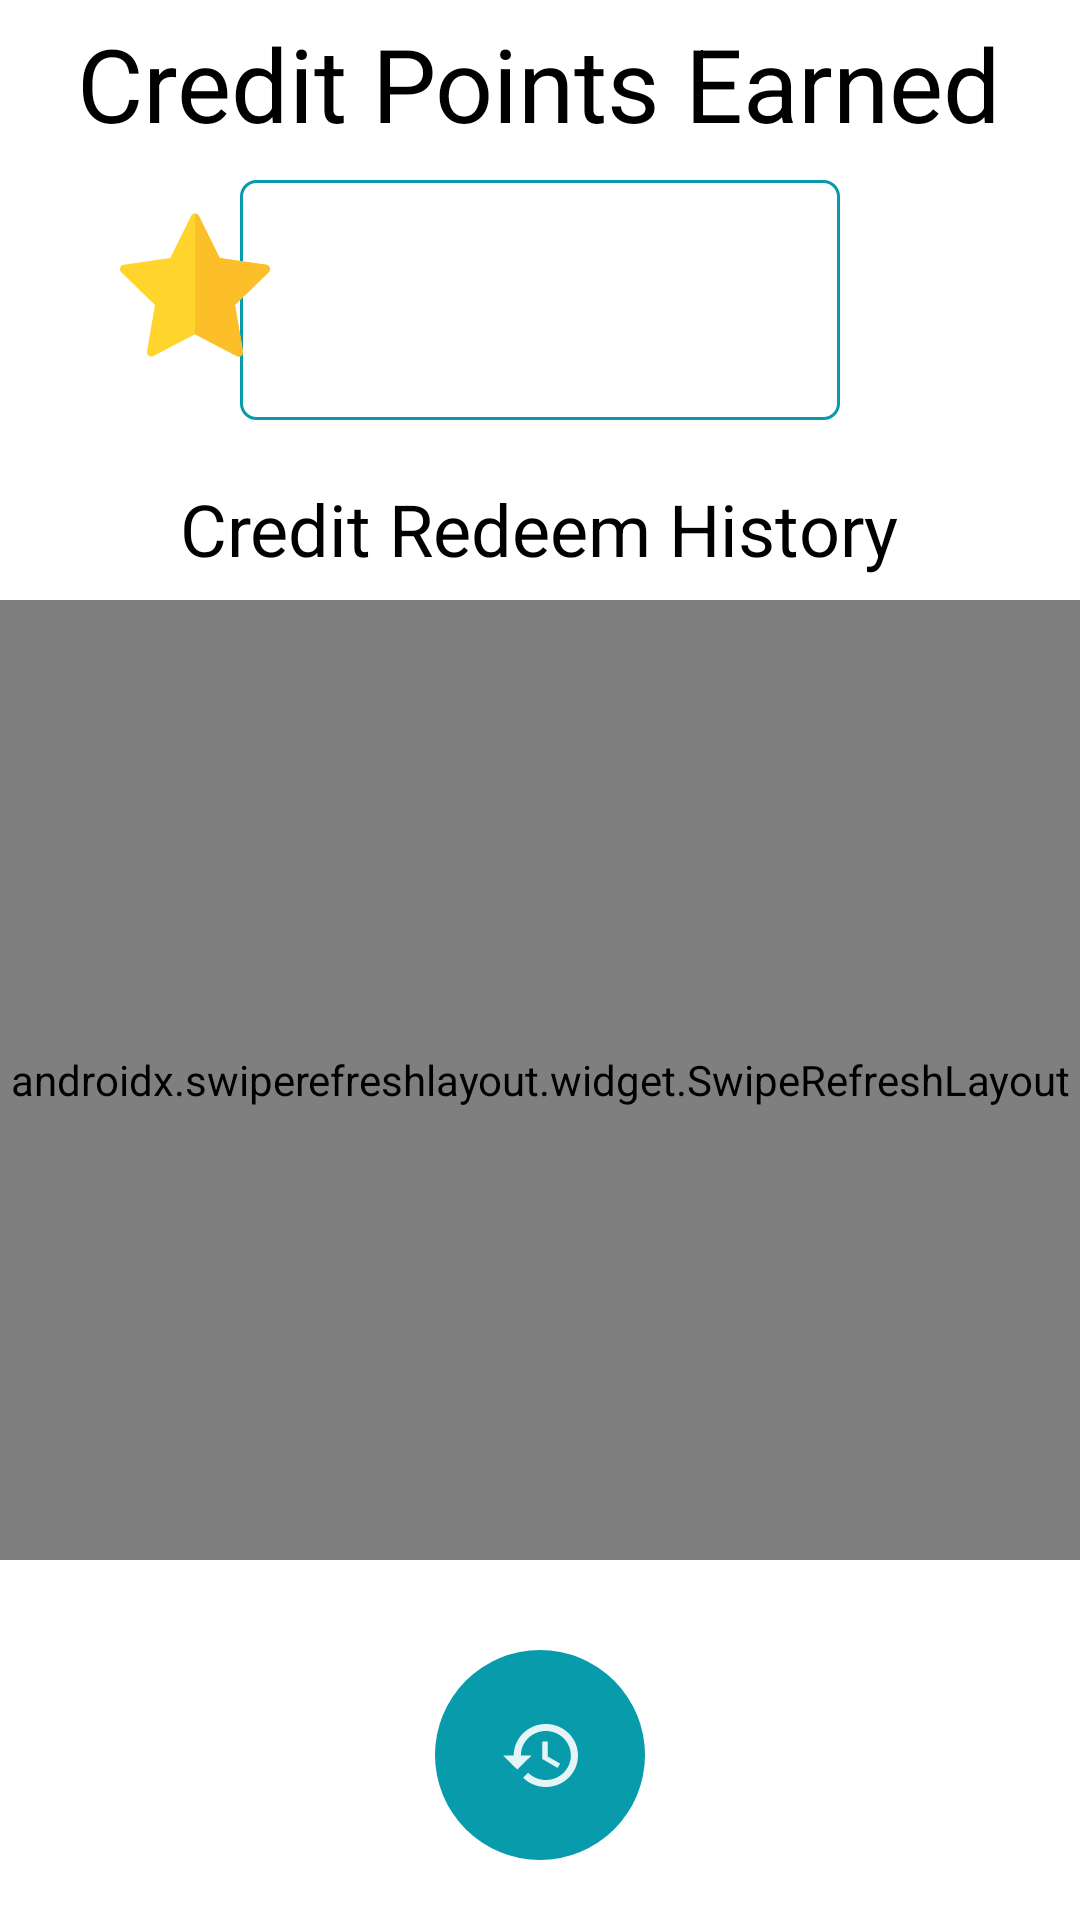

Icon bounding boxes for this 1080 x 1920 phone screenshot, format (x1, y1, x2, y2):
history: (435, 1650, 645, 1860)
star: (120, 210, 270, 360)
